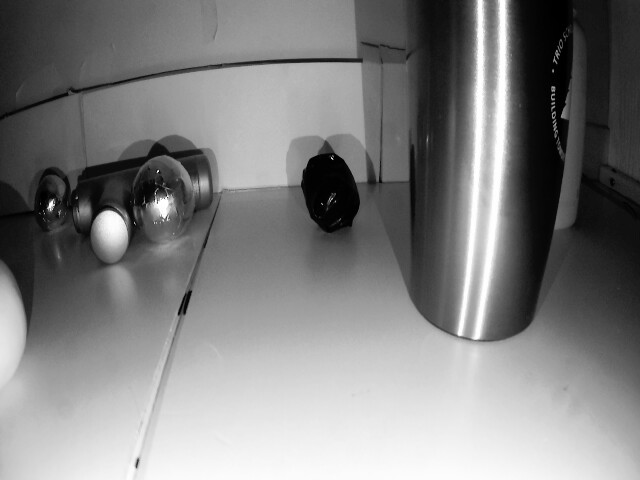black: (297, 148, 369, 240)
silver: (127, 157, 201, 245), (33, 169, 70, 231)
